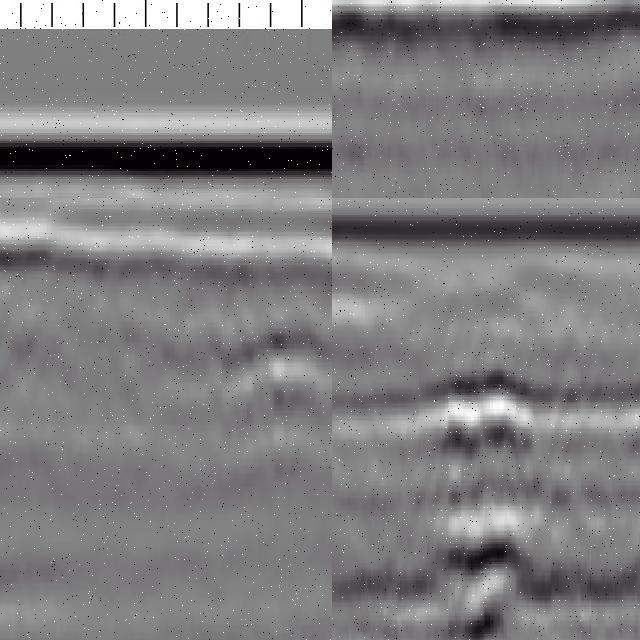loose: (429, 354, 538, 640), (206, 310, 333, 450), (333, 3, 395, 157)
